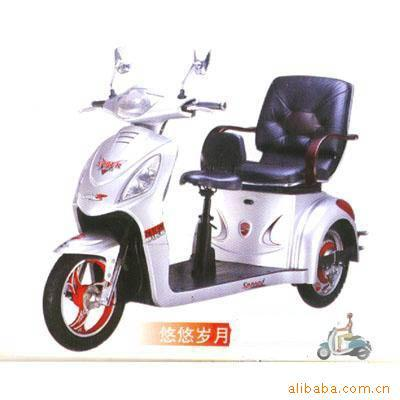电动车: (42, 44, 370, 354)
